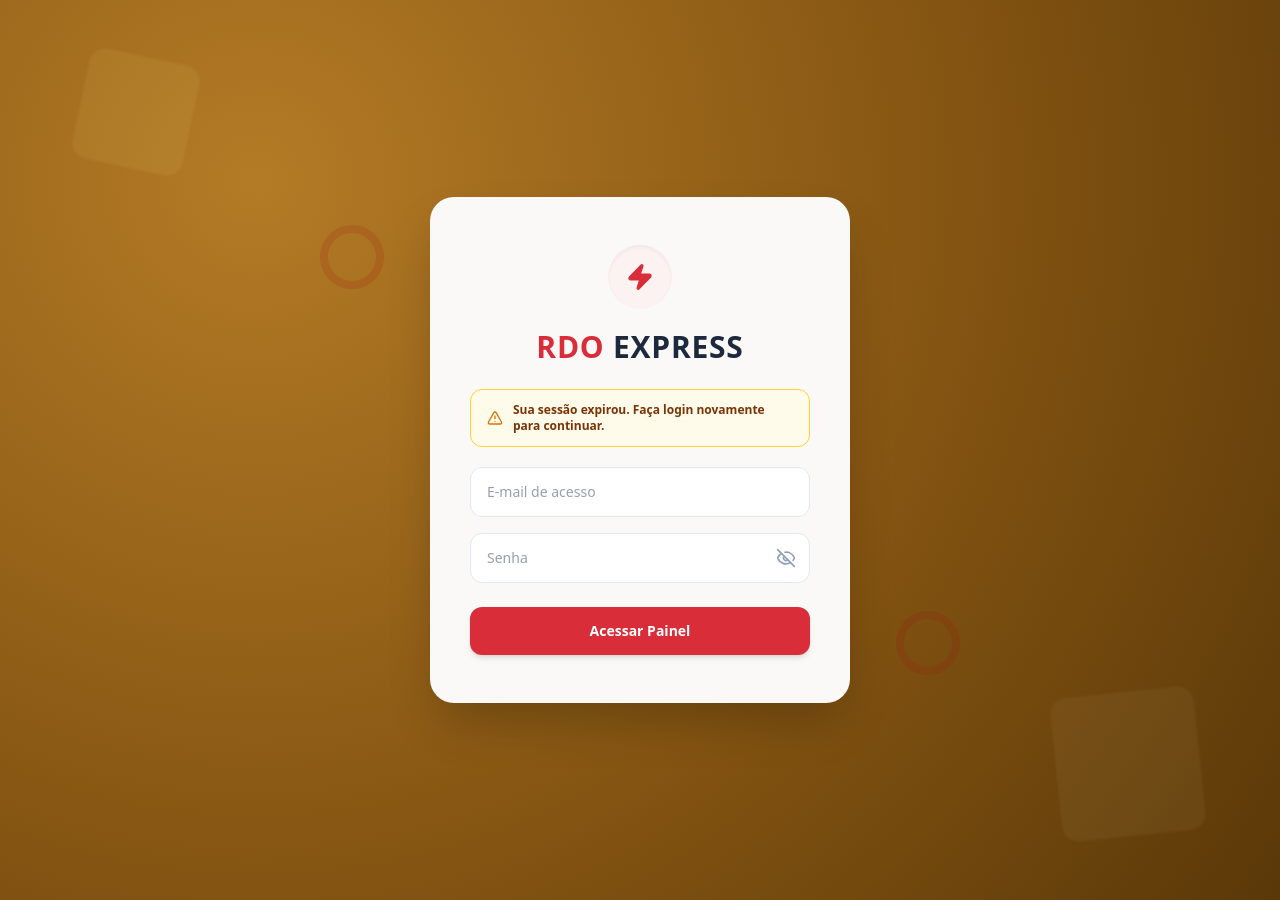
Test case: LoginScreen & 401 Session Expiration Interceptor › should display session expired warning when expired=true query param is present and redirect to original route after login
Expected: the text "Sua sessão expirou. Faça login novamente para continuar." is shown, [513,402,793,434]
Type "admin@rodo.com" into the field with placeholder "E-mail de acesso" at [640, 492], box [470,467,810,517]
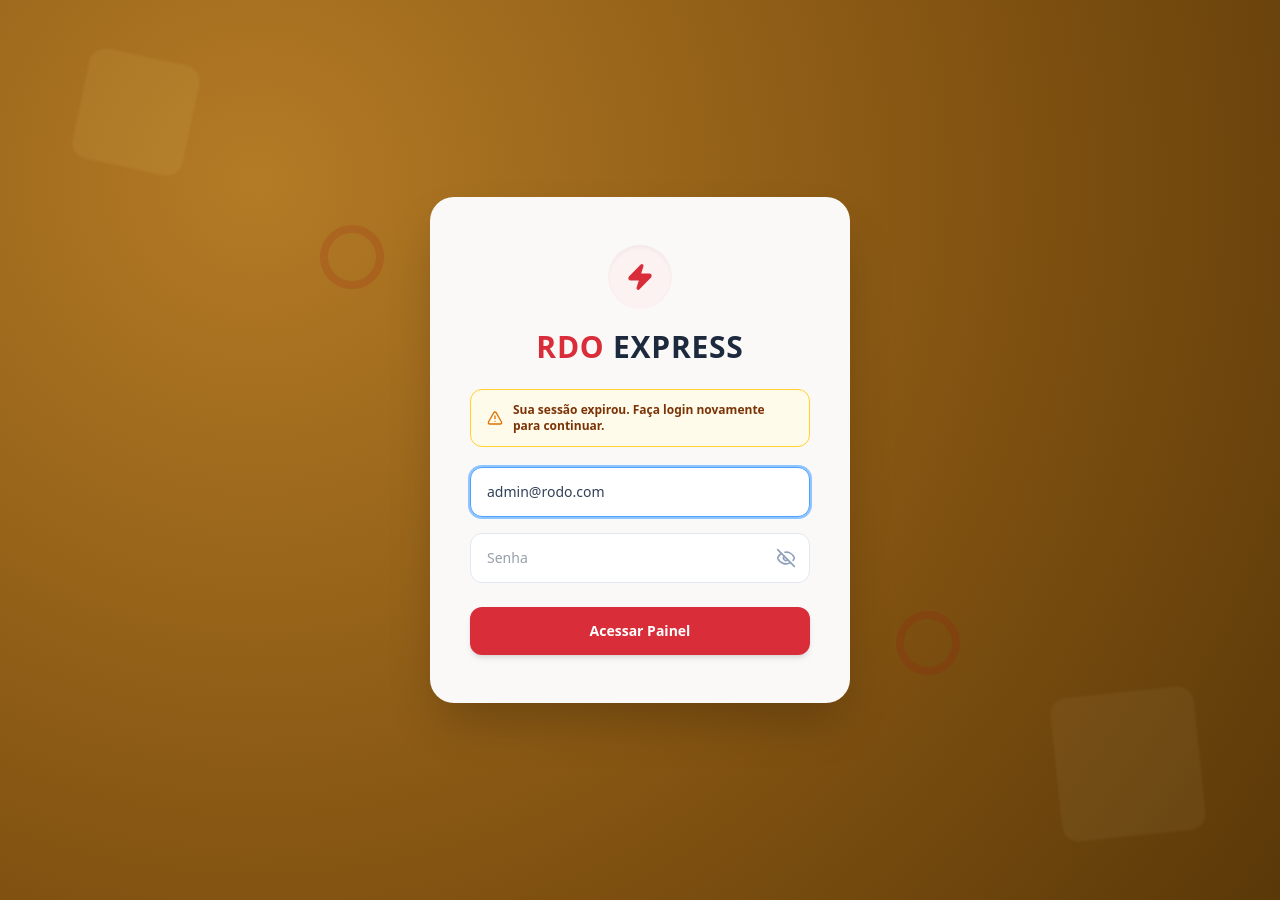
Type "Admin@123" into the password field with placeholder "Senha" at [640, 558], box [470,533,810,583]
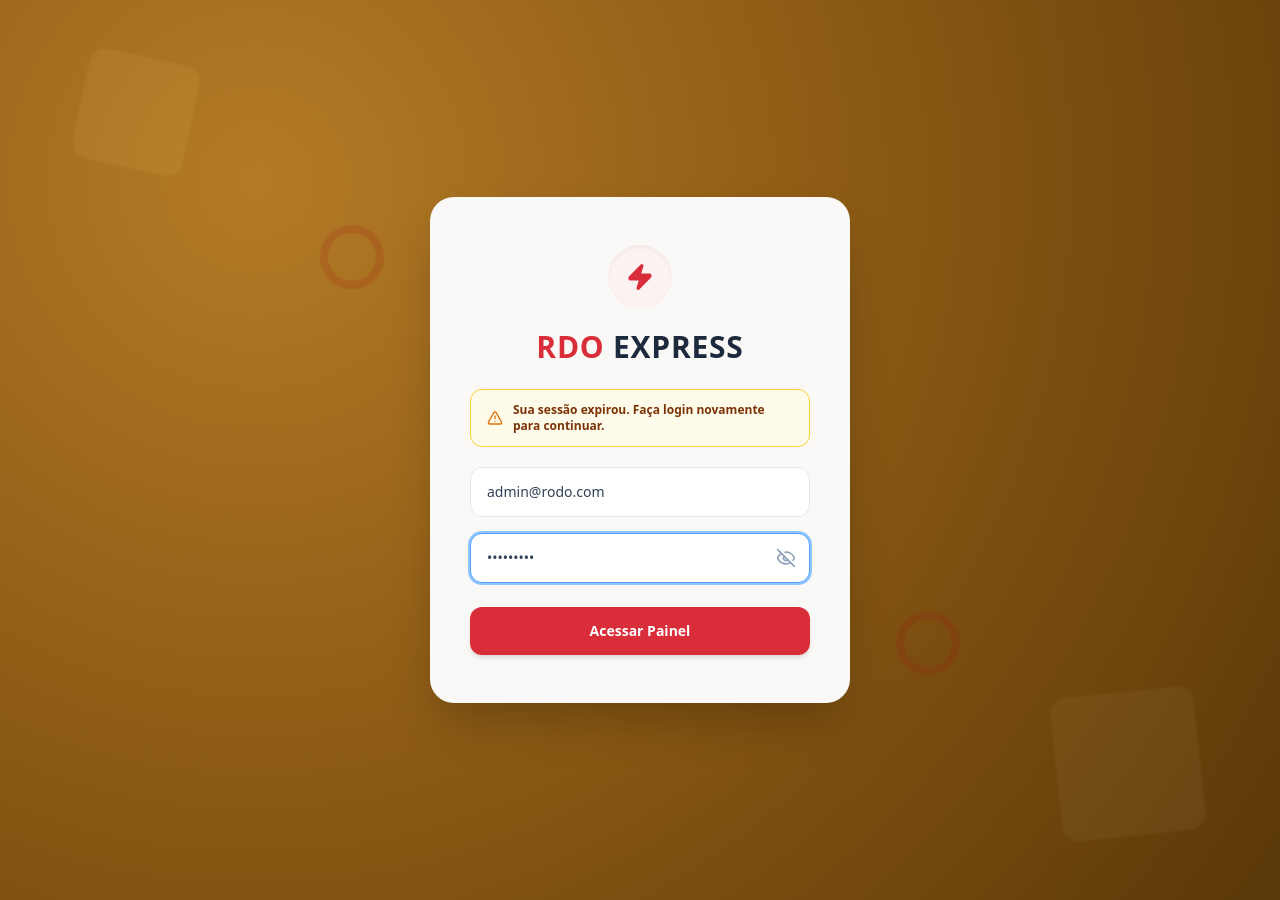
Click the button "Acessar Painel" at [640, 631], box [470,607,810,655]
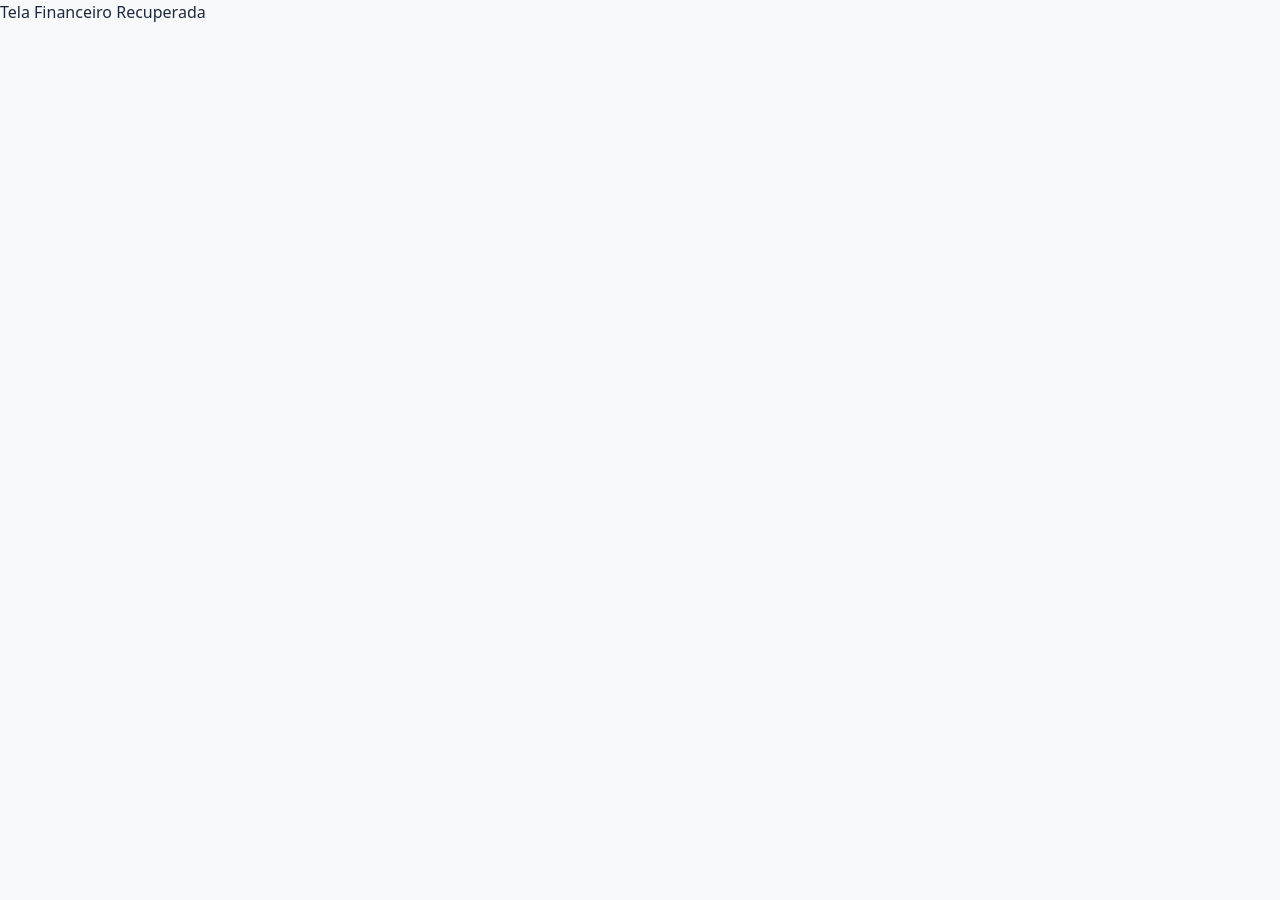
Now the text "Tela Financeiro Recuperada" is shown, box [0,1,206,23]
